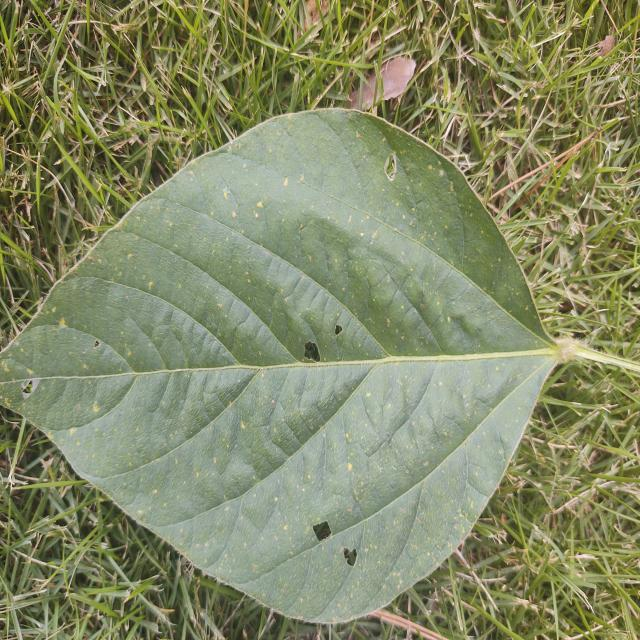Soybean: (0, 108, 564, 628)
downey_mildew: (422, 127, 564, 347), (62, 388, 284, 519), (1, 280, 228, 393), (235, 228, 394, 360), (162, 202, 302, 344), (171, 468, 282, 586), (310, 181, 409, 312), (338, 388, 428, 522), (278, 118, 381, 232), (436, 356, 535, 471), (269, 357, 387, 451), (113, 195, 229, 290), (353, 217, 434, 350), (253, 525, 355, 623), (263, 427, 343, 549), (140, 293, 248, 375), (455, 192, 521, 319), (381, 152, 451, 260), (388, 175, 460, 275), (195, 219, 275, 301), (421, 444, 473, 540), (299, 214, 350, 310), (462, 410, 509, 488), (239, 456, 286, 532), (433, 269, 473, 302), (640, 0, 640, 14)
